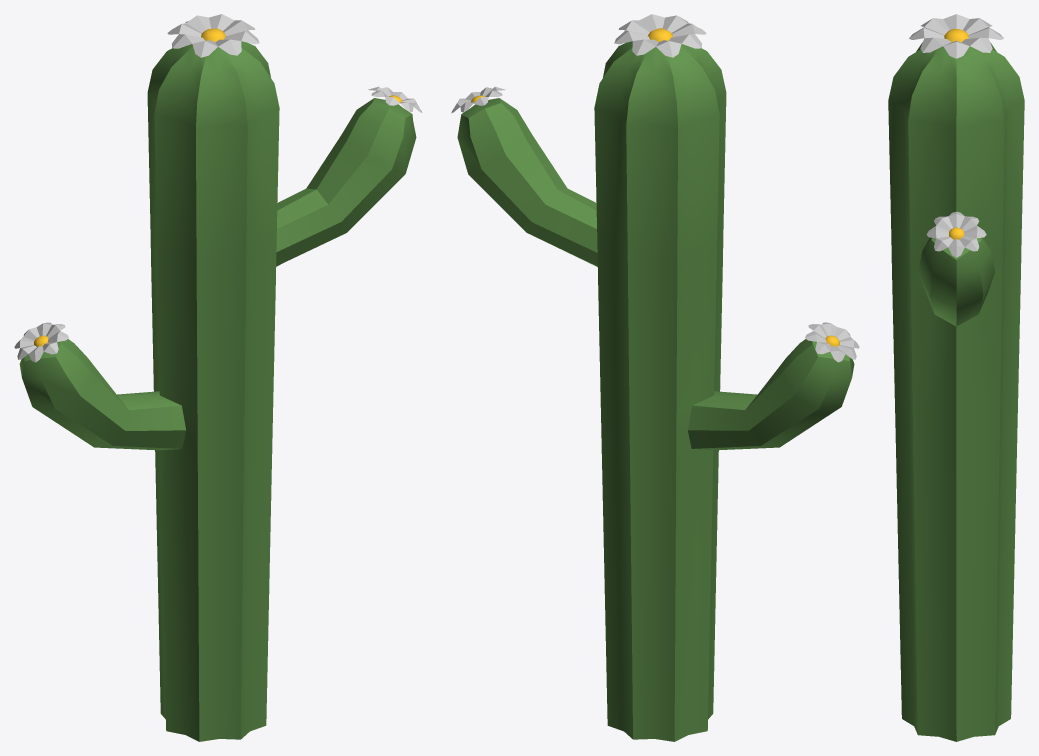
File: Cactus.fbx
3 renders of one model, left to right at view 1: azimuth 30°, elevation 25°; view 2: azimuth 150°, elevation 25°; view 3: azimuth 270°, elevation 25°, orthographic.
Visible parts, largest first — view 1: Cactus_Plant, Flower.000, Flower.002; view 2: Cactus_Plant, Flower.000, Flower.002; view 3: Cactus_Plant, Flower.000, Flower.001.
Part boxes in pixels (x1=…): Cactus_Plant: x1=19, y1=41, x2=416, y2=741; Flower.000: x1=167, y1=14, x2=259, y2=57; Flower.002: x1=14, y1=322, x2=68, y2=362; Cactus_Plant: x1=457, y1=41, x2=854, y2=741; Flower.000: x1=614, y1=14, x2=706, y2=57; Flower.002: x1=805, y1=322, x2=859, y2=362; Cactus_Plant: x1=888, y1=42, x2=1024, y2=741; Flower.000: x1=909, y1=14, x2=1003, y2=58; Flower.001: x1=926, y1=211, x2=986, y2=257.
Size of the model in its own units: 1.35 by 2.24 by 0.4.
